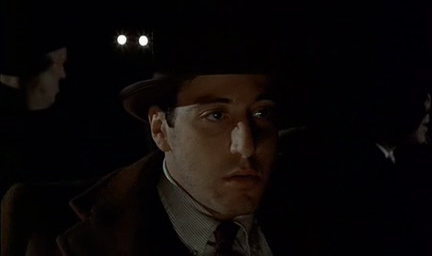cu: (1, 1, 432, 256)
face: (177, 76, 281, 216), (37, 48, 67, 109), (406, 85, 432, 143)
person: (1, 1, 322, 256), (1, 1, 79, 199)
